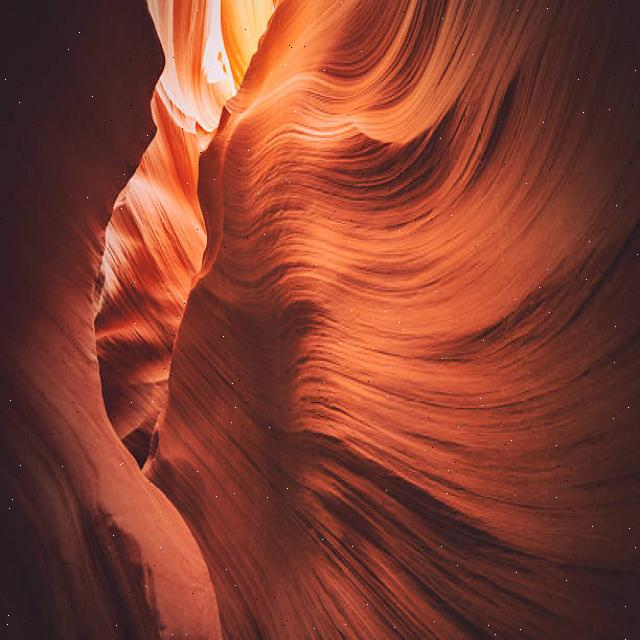Sedimentary: (2, 1, 638, 637)
